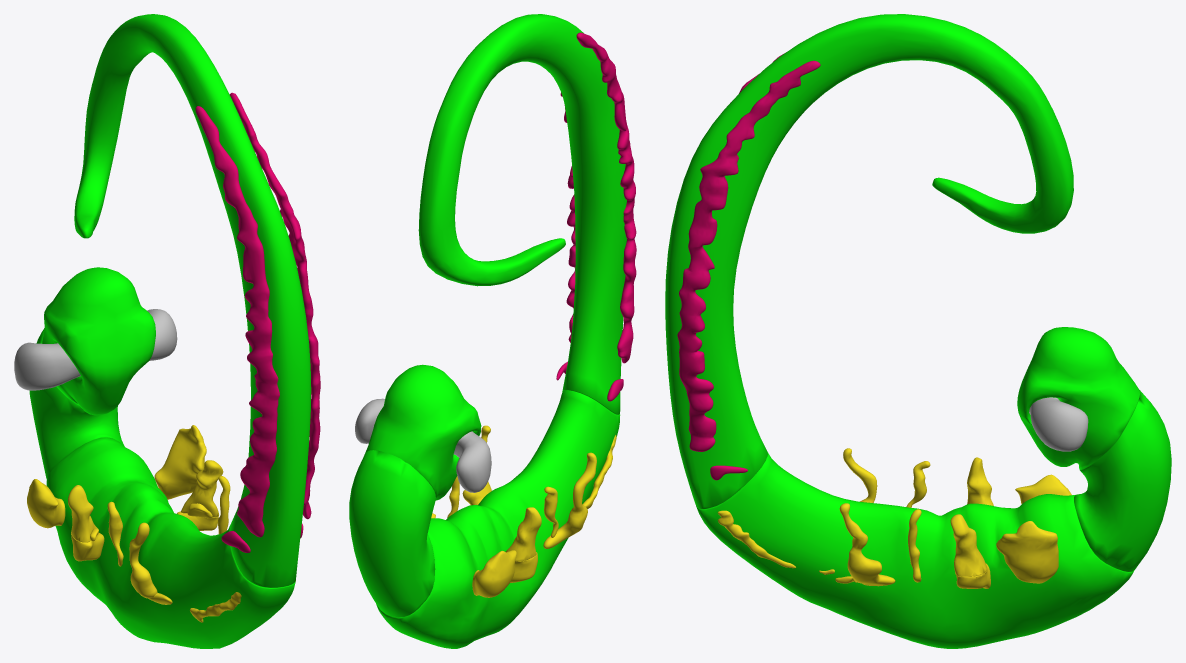
File: NeuralTubeNerves.fbx
The picture shows the model from 3 angles, left to right: view 1: azimuth 30°, elevation 25°; view 2: azimuth 150°, elevation 25°; view 3: azimuth 270°, elevation 25°; orthographic projection. The views are drawn at different scales.
Parts seen in each view (by area): view 1: Spinal_cord, Rhombencephalon, Spinal_ganglia, Prosencaphalon, Mesencephalon, N_V_Trigeminal, Neural_canal, N_VII_Facial, N_IX_Glossopharyngeal, N_X_Vagus, Roots_of_facial_and_auditory_nerve, N_XII_Hypoglossal; view 2: Spinal_cord, Rhombencephalon, Mesencephalon, Prosencaphalon, Spinal_ganglia, Neural_canal, N_X_Vagus, N_V_Trigeminal, N_VII_Facial, N_IX_Glossopharyngeal, Roots_of_facial_and_auditory_nerve, N_XII_Hypoglossal; view 3: Spinal_cord, Rhombencephalon, Mesencephalon, Prosencaphalon, Spinal_ganglia, N_V_Trigeminal, Neural_canal, N_VII_Facial, N_X_Vagus, N_IX_Glossopharyngeal, N_XII_Hypoglossal.
Boxes of the visible parts, x1,y1,x2,y2 form: Spinal_cord: (74, 14, 311, 587); Rhombencephalon: (46, 437, 295, 648); Spinal_ganglia: (195, 92, 320, 552); Prosencaphalon: (41, 267, 155, 415); Mesencephalon: (29, 328, 124, 479); N_V_Trigeminal: (27, 425, 206, 528); Neural_canal: (14, 309, 177, 390); N_VII_Facial: (68, 460, 223, 542); N_IX_Glossopharyngeal: (107, 476, 230, 566); N_X_Vagus: (129, 522, 157, 598); Roots_of_facial_and_auditory_nerve: (71, 511, 218, 561); N_XII_Hypoglossal: (190, 580, 295, 622); Spinal_cord: (418, 14, 626, 414); Rhombencephalon: (376, 390, 620, 648); Mesencephalon: (349, 450, 435, 617); Prosencaphalon: (364, 364, 481, 500); Spinal_ganglia: (556, 32, 636, 401); Neural_canal: (355, 398, 491, 492); N_X_Vagus: (462, 425, 596, 548); N_V_Trigeminal: (472, 550, 516, 597); N_VII_Facial: (505, 507, 541, 561); N_IX_Glossopharyngeal: (447, 476, 558, 537); Roots_of_facial_and_auditory_nerve: (510, 552, 537, 582); N_XII_Hypoglossal: (582, 435, 616, 508); Spinal_cord: (665, 14, 1073, 509); Rhombencephalon: (696, 452, 1134, 648); Mesencephalon: (1074, 390, 1171, 571); Prosencaphalon: (1017, 327, 1139, 469); Spinal_ganglia: (677, 53, 820, 480); N_V_Trigeminal: (996, 474, 1071, 583); Neural_canal: (1029, 397, 1088, 451); N_VII_Facial: (950, 457, 993, 576); N_X_Vagus: (839, 448, 895, 586); N_IX_Glossopharyngeal: (906, 461, 930, 582); N_XII_Hypoglossal: (717, 510, 834, 574).
Size of the model in its own units: 11.25 by 41.03 by 30.04.
